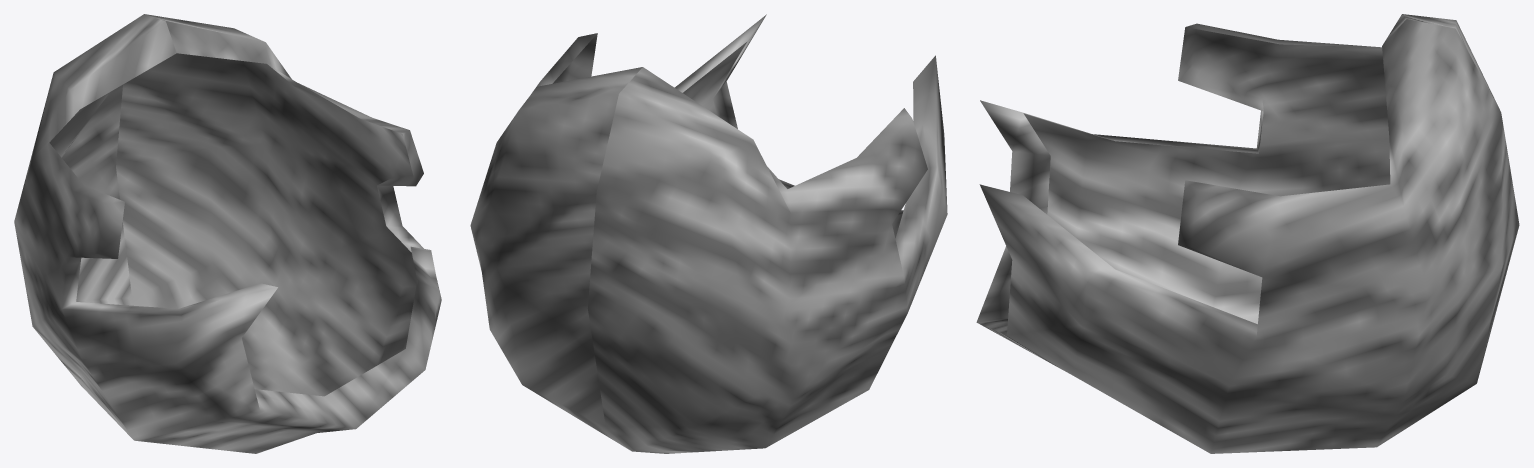
The model's file is Wig_M_Hair_ShortHat.fbx.
3 renders of one model, left to right at view 1: azimuth 30°, elevation 25°; view 2: azimuth 150°, elevation 25°; view 3: azimuth 270°, elevation 25°, orthographic. The views are drawn at different scales.
Parts seen in each view (by area): view 1: BoxOfJars003; view 2: BoxOfJars003; view 3: BoxOfJars003.
Boxes of the visible parts, left/top/right/bottom form: BoxOfJars003: left=14, top=14, right=441, bottom=453; BoxOfJars003: left=470, top=14, right=947, bottom=453; BoxOfJars003: left=976, top=14, right=1519, bottom=453.
Bounding box in the file's own units: 12.17 × 12.51 × 14.86.
